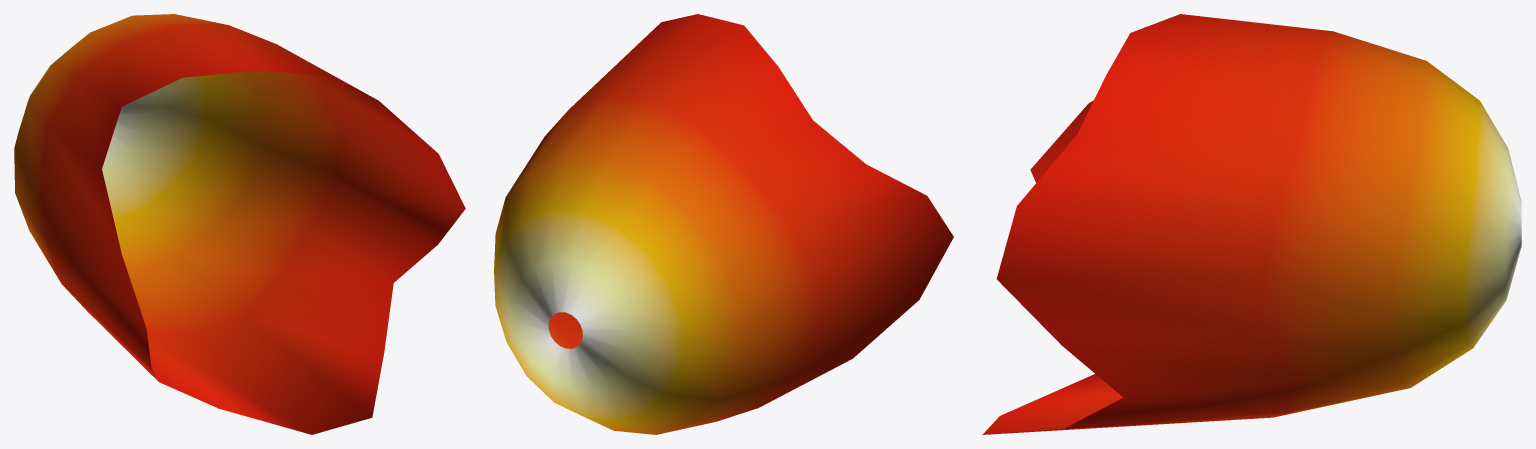
File: y_zidantou002.FBX
The picture shows the model from 3 angles, left to right: view 1: azimuth 30°, elevation 25°; view 2: azimuth 150°, elevation 25°; view 3: azimuth 270°, elevation 25°; orthographic projection. The views are drawn at different scales.
Parts seen in each view (by area): view 1: daqiangqiliu_gai; view 2: daqiangqiliu_gai; view 3: daqiangqiliu_gai.
Part boxes in pixels (bbox=[...]): daqiangqiliu_gai: bbox=[14, 14, 465, 434]; daqiangqiliu_gai: bbox=[494, 14, 953, 434]; daqiangqiliu_gai: bbox=[982, 14, 1521, 434].
Size of the model in its own units: 177 by 180 by 230.
